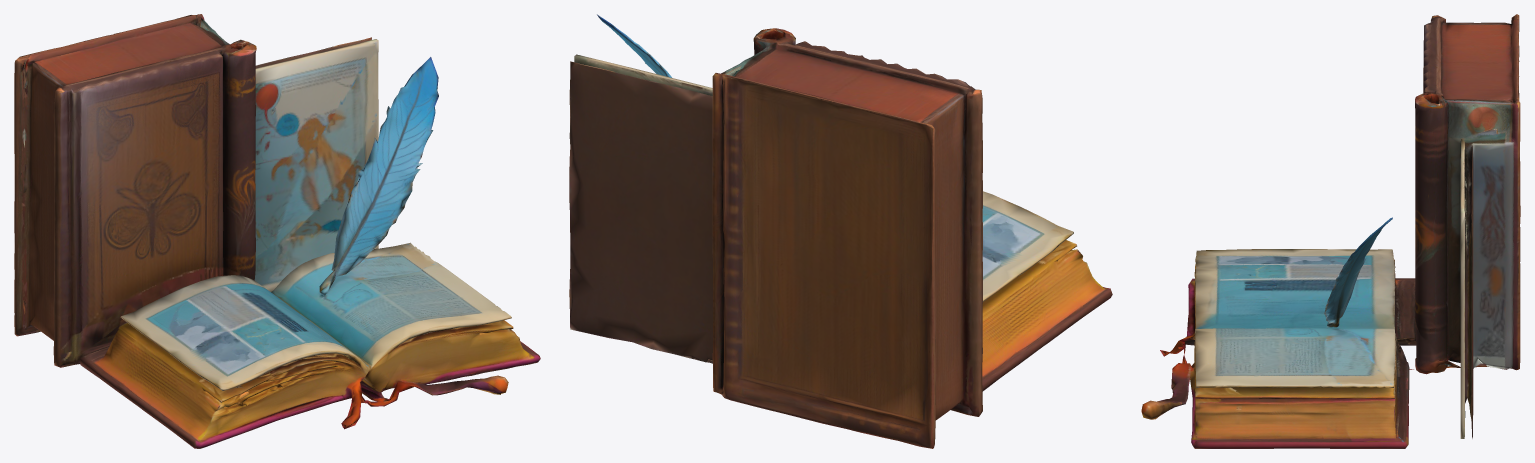
File: ModelBlender_Libro.glb
3 views of the same model, side by side, from view 1: azimuth 30°, elevation 25°; view 2: azimuth 150°, elevation 25°; view 3: azimuth 270°, elevation 25° (orthographic). The views are drawn at different scales.
Bounding box in the file's own units: 2 × 1.49 × 1.86.
1 material, 1 textured.
